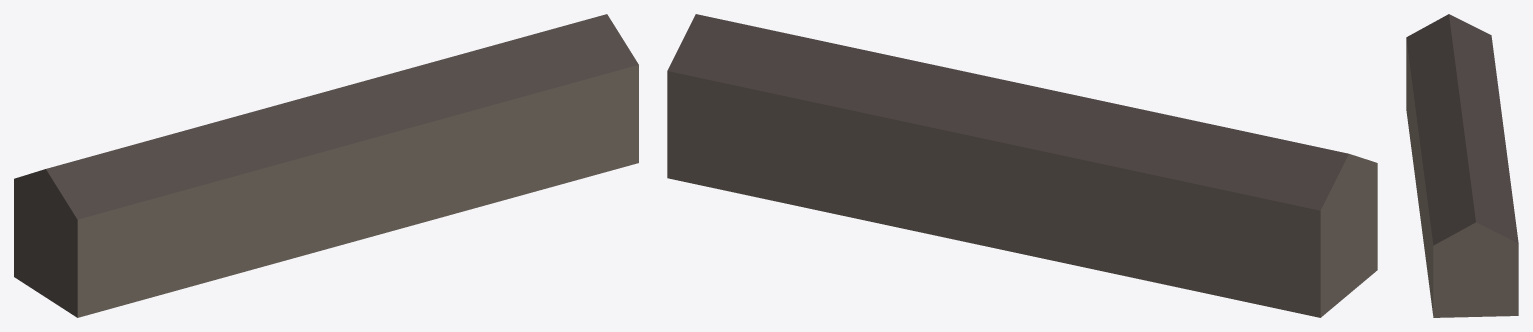
3 renders of one model, left to right at view 1: azimuth 30°, elevation 25°; view 2: azimuth 150°, elevation 25°; view 3: azimuth 270°, elevation 25°, orthographic. The views are drawn at different scales.
Parts seen in each view (by area): view 1: HP-w1318374448; view 2: HP-w1318374448; view 3: HP-w1318374448.
Boxes of the visible parts, left/top/right/bottom form: HP-w1318374448: left=14, top=14, right=638, bottom=317; HP-w1318374448: left=667, top=14, right=1377, bottom=317; HP-w1318374448: left=1406, top=14, right=1518, bottom=317.
Size of the model in its own units: 37.43 by 7.85 by 8.45.
